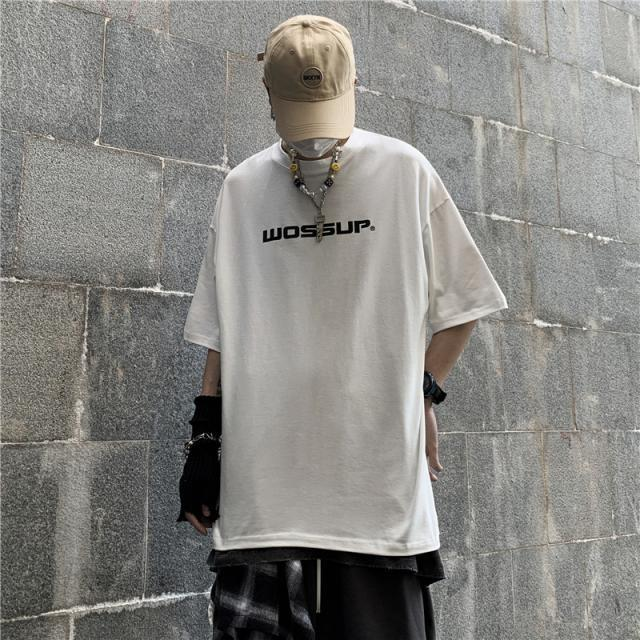short sleeve shirt: (182, 123, 508, 559)
trousers: (207, 546, 446, 640)
